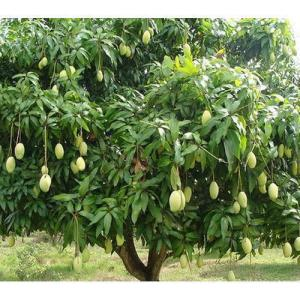Tree: (4, 20, 298, 282)
